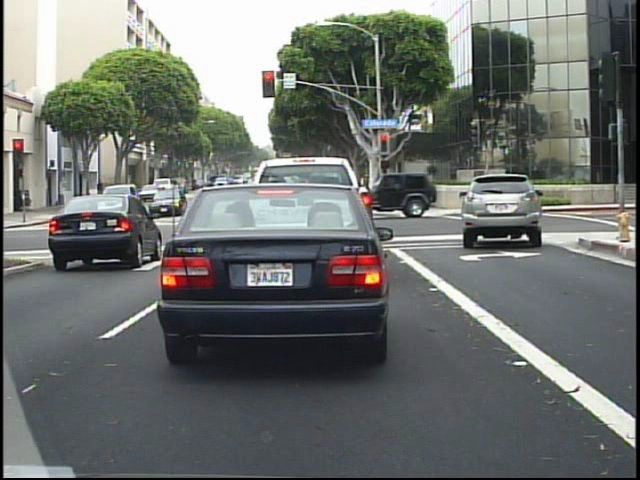person: (93, 176, 108, 207)
